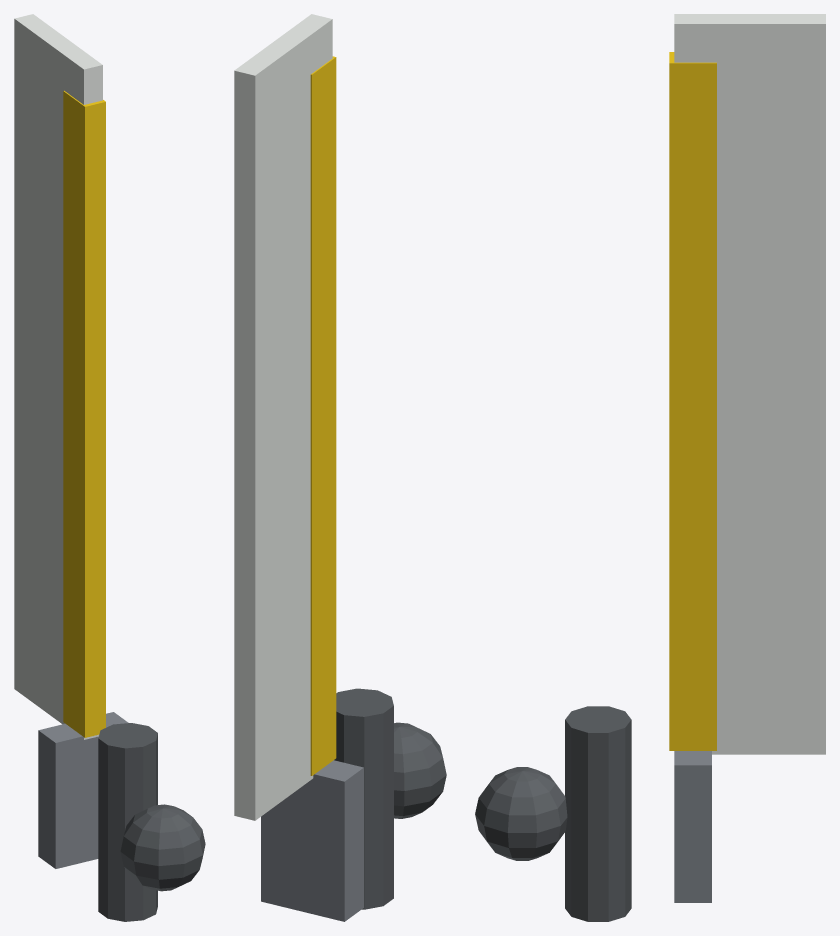
The model's file is weapon-scrapblade.glb.
3 renders of one model, left to right at view 1: azimuth 30°, elevation 25°; view 2: azimuth 150°, elevation 25°; view 3: azimuth 270°, elevation 25°, orthographic. The views are drawn at different scales.
Visible parts, largest first — view 1: blade, edge, grip, guard, pommel; view 2: blade, edge, guard, grip, pommel; view 3: blade, edge, grip, pommel, guard.
Boxes of the visible parts, x1=… form: blade: x1=14, y1=14, x2=102, y2=739; edge: x1=63, y1=90, x2=105, y2=737; grip: x1=98, y1=723, x2=157, y2=921; guard: x1=38, y1=712, x2=128, y2=868; pommel: x1=120, y1=804, x2=205, y2=891; blade: x1=234, y1=14, x2=332, y2=820; edge: x1=310, y1=56, x2=336, y2=775; guard: x1=261, y1=760, x2=363, y2=921; grip: x1=334, y1=688, x2=393, y2=909; pommel: x1=394, y1=722, x2=446, y2=818; blade: x1=674, y1=14, x2=825, y2=754; edge: x1=669, y1=52, x2=716, y2=750; grip: x1=565, y1=706, x2=631, y2=921; pommel: x1=475, y1=767, x2=567, y2=860; guard: x1=674, y1=751, x2=711, y2=902.
Size of the model in its own units: 0.1 by 1.04 by 0.37.
